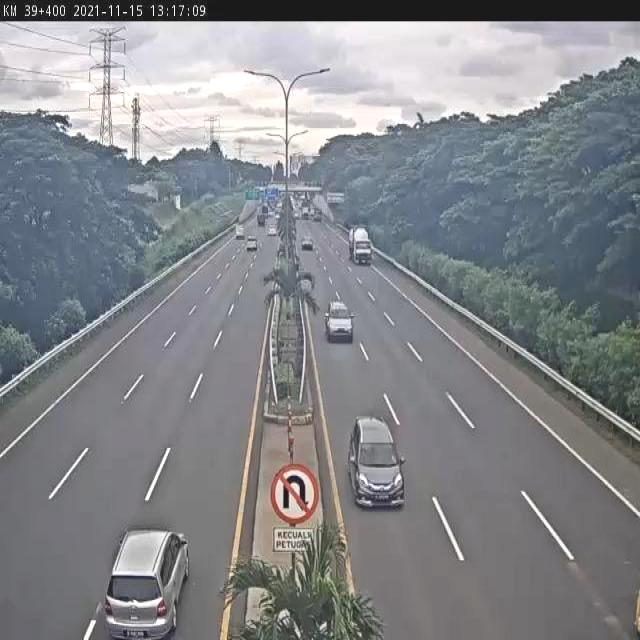Car: (105, 528, 190, 640), (349, 414, 406, 512), (325, 301, 355, 345), (301, 236, 313, 252)
Truck: (349, 226, 372, 266), (236, 224, 244, 241), (257, 213, 266, 227)
